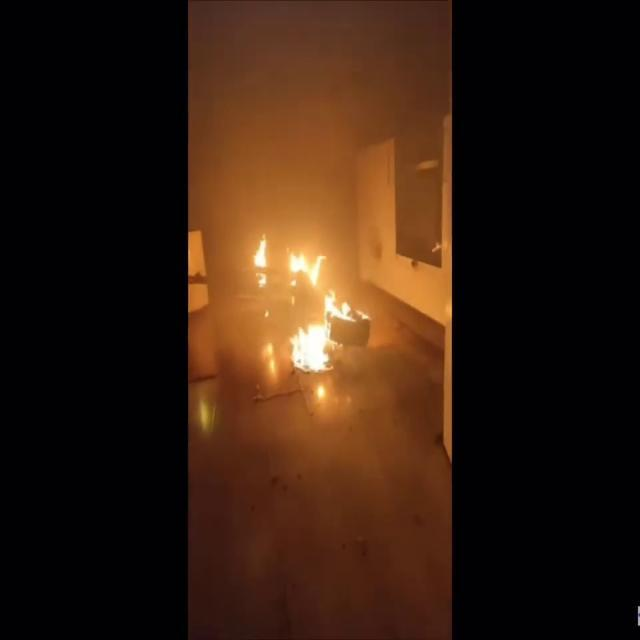Fire: (253, 235, 357, 391)
Smoke: (188, 0, 448, 254)
